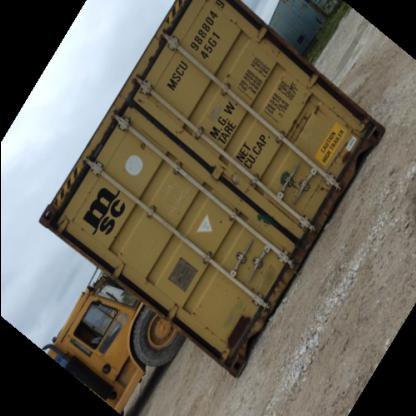Damage: (214, 308, 262, 356), (286, 94, 327, 140), (266, 162, 314, 201), (128, 134, 154, 156)
